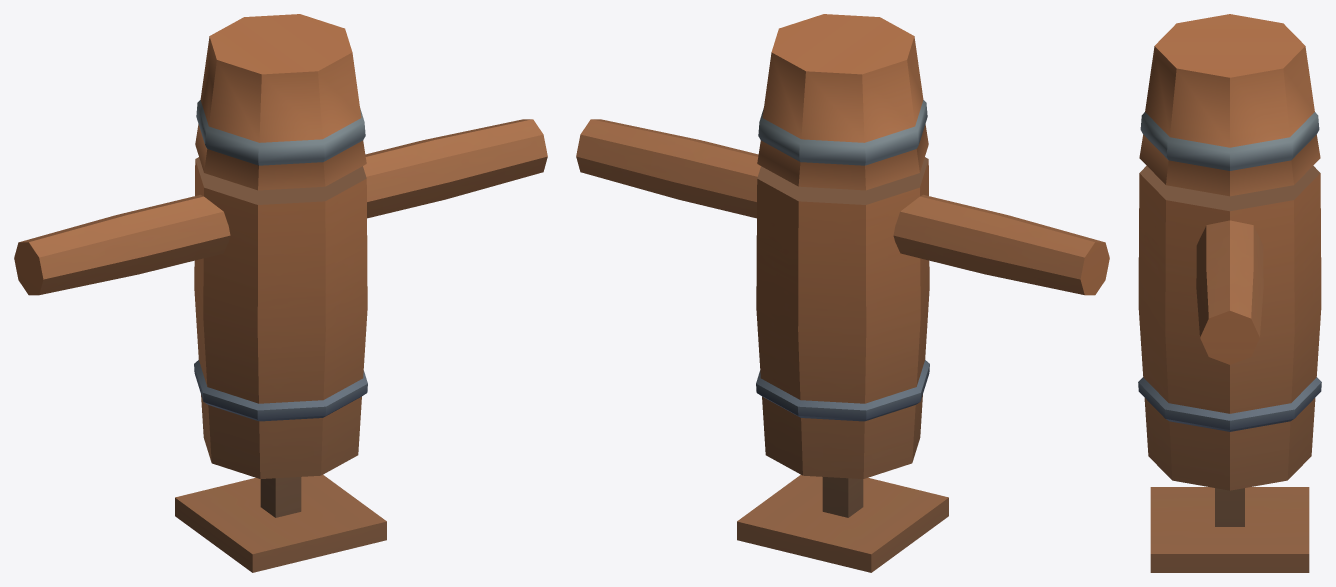
Rendered from Мишень_Фигура.fbx.
3 views of the same model, side by side, from view 1: azimuth 30°, elevation 25°; view 2: azimuth 150°, elevation 25°; view 3: azimuth 270°, elevation 25° (orthographic).
Visible parts, largest first — view 1: Мишень_Фигура; view 2: Мишень_Фигура; view 3: Мишень_Фигура.
Boxes of the visible parts, <box> form: Мишень_Фигура: <box>14,14,547,572</box>; Мишень_Фигура: <box>576,14,1109,572</box>; Мишень_Фигура: <box>1138,14,1321,572</box>.
Size of the model in its own units: 59.8 by 54.83 by 18.5.
